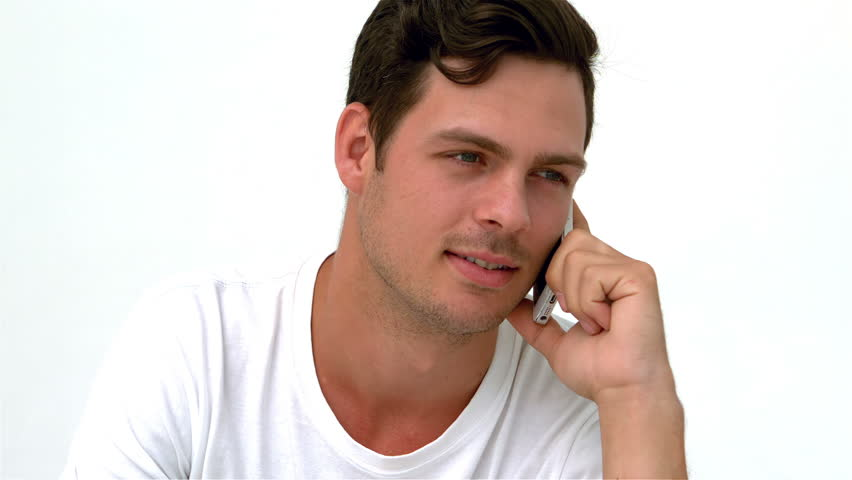phone: (530, 196, 583, 321)
talk: (401, 112, 675, 420)
